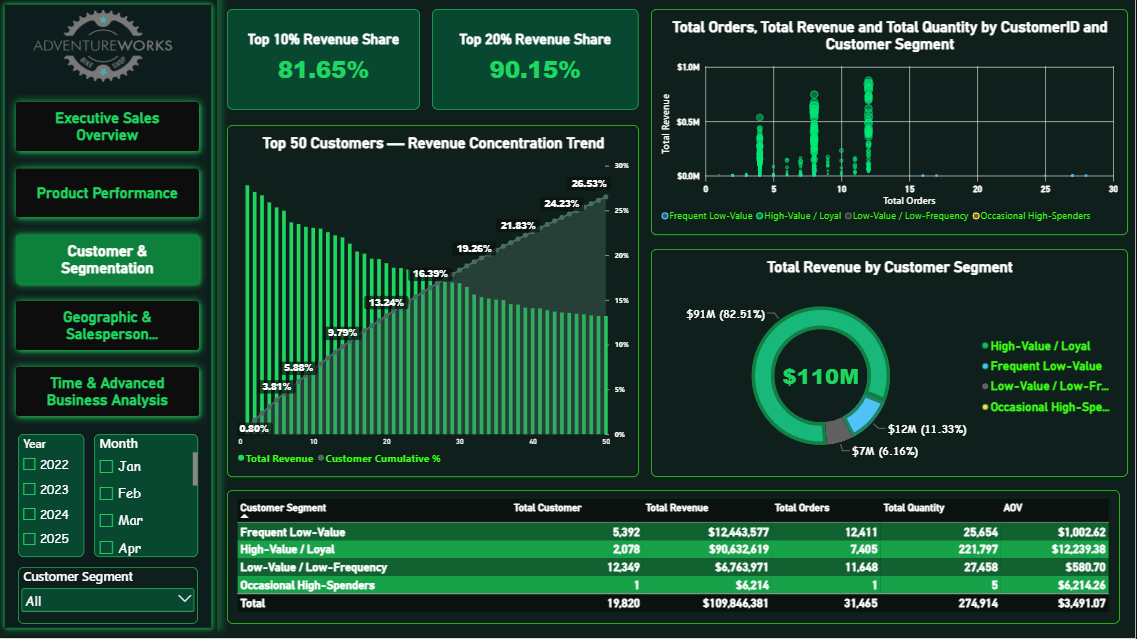

The dashboard page shown, as its layout file describes it:
{"tool":"powerbi","page":{"name":" Customer & Segmentation","canvas":[1920,1080],"ordinal":2},"visuals":[{"type":"shape","box":[0,0,368,1072],"z":0},{"type":"pageNavigator","box":[16,160,336,560],"z":1000},{"type":"image","box":[32,16,288,128],"z":2000},{"type":"slicer","fields":{"Values":["Calender.Year"]},"box":[32,736,112,208],"z":3000},{"type":"slicer","fields":{"Values":["Calender.Month"]},"box":[160,736,176,208],"z":4000},{"type":"donutChart","fields":{"Category":["Sales Customer.Customer Segment"],"Y":["CALC ( Executive Sales Overview).Total Revenue"]},"box":[1102,422.5,806.2,385.4],"z":6000},{"type":"lineClusteredColumnComboChart","title":"Top 50 Customers — Revenue Concentration Trend","fields":{"Y":["CALC ( Executive Sales Overview).Total Revenue"],"Y2":["CALC(Customer & Segmentation).Customer Cumulative %"],"Category":["Sales Customer.Customer Rank Column"]},"box":[385.4,213,696.3,594.9],"z":7000},{"type":"cardVisual","fields":{"Data":["CALC(Customer & Segmentation).Top 10% Revenue Share"]},"box":[385.8,16.1,326.1,170],"z":8000},{"type":"cardVisual","fields":{"Data":["CALC(Customer & Segmentation).Top 20% Revenue Share"]},"box":[732.6,16.1,349.1,170],"z":9000},{"type":"scatterChart","fields":{"X":["CALC ( Executive Sales Overview).Total Orders"],"Y":["CALC ( Executive Sales Overview).Total Revenue"],"Size":["CALC ( Executive Sales Overview).Total Quantity"],"Series":["Sales Customer.Customer Segment"],"Category":["Sales Customer.CustomerID"]},"box":[1102,16.9,806.2,382],"z":10000},{"type":"tableEx","fields":{"Values":["Sales Customer.Customer Segment","CALC ( Executive Sales Overview).Total Customer","CALC ( Executive Sales Overview).Total Revenue","CALC ( Executive Sales Overview).Total Orders","CALC ( Executive Sales Overview).Total Quantity","CALC ( Executive Sales Overview).AOV"]},"box":[385.4,829.9,1509.3,226.5],"z":11000},{"type":"slicer","fields":{"Values":["Sales Customer.Customer Segment"]},"box":[32,960,304,96],"z":11001}]}

Visuals, with their boxes in screenshot pixels (x1, y1, x2, y2), scaled from the page's 1920x1080 canvas onto the 1137x639 screenshot:
shape: detection(0, 0, 218, 634)
pageNavigator: detection(9, 95, 208, 426)
image: detection(19, 9, 190, 85)
slicer - Calender.Year: detection(19, 435, 85, 559)
slicer - Calender.Month: detection(95, 435, 199, 559)
donutChart - Sales Customer.Customer Segment x CALC ( Executive Sales Overview).Total Revenue: detection(653, 250, 1130, 478)
"Top 50 Customers — Revenue Concentration Trend" lineClusteredColumnComboChart: detection(228, 126, 641, 478)
cardVisual - CALC(Customer & Segmentation).Top 10% Revenue Share: detection(228, 10, 422, 110)
cardVisual - CALC(Customer & Segmentation).Top 20% Revenue Share: detection(434, 10, 641, 110)
scatterChart - CALC ( Executive Sales Overview).Total Orders x CALC ( Executive Sales Overview).Total Revenue: detection(653, 10, 1130, 236)
tableEx - Sales Customer.Customer Segment x CALC ( Executive Sales Overview).Total Customer: detection(228, 491, 1122, 625)
slicer - Sales Customer.Customer Segment: detection(19, 568, 199, 625)
